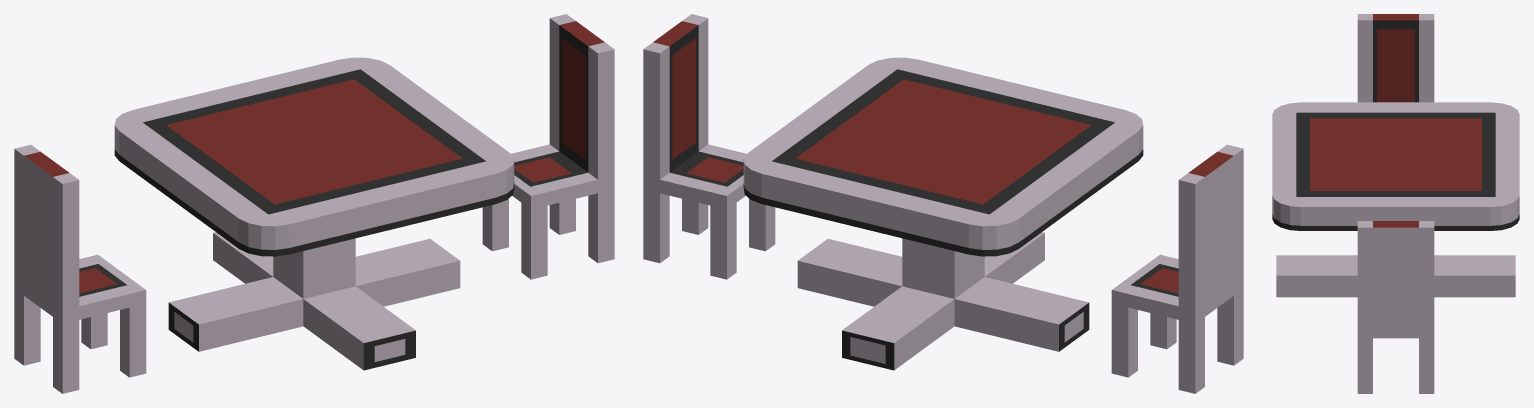
Rendered from furniture-table.glb.
3 views of the same model, side by side, from view 1: azimuth 30°, elevation 25°; view 2: azimuth 150°, elevation 25°; view 3: azimuth 270°, elevation 25° (orthographic). The views are drawn at different scales.
Visible parts, largest first — view 1: TableRounded, Chair1, Chair2; view 2: TableRounded, Chair1, Chair2; view 3: TableRounded, Chair2, Chair1.
Part boxes in pixels (x1=…): TableRounded: x1=114, y1=57, x2=514, y2=370; Chair1: x1=14, y1=144, x2=146, y2=393; Chair2: x1=482, y1=14, x2=614, y2=279; TableRounded: x1=743, y1=57, x2=1143, y2=370; Chair1: x1=1111, y1=144, x2=1243, y2=393; Chair2: x1=643, y1=14, x2=775, y2=279; TableRounded: x1=1272, y1=102, x2=1519, y2=297; Chair2: x1=1357, y1=221, x2=1434, y2=393; Chair1: x1=1357, y1=14, x2=1434, y2=102.
Size of what is drawn, in the model's own units: 3.3 by 1.2 by 1.62.
